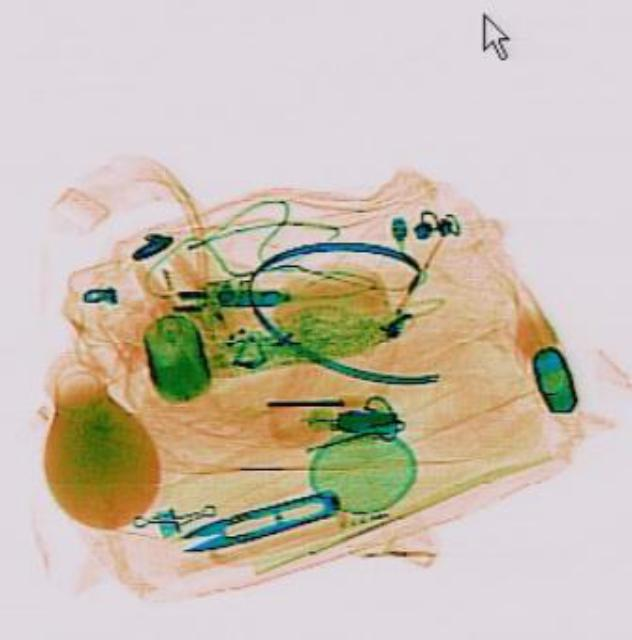Scissors: (170, 480, 340, 558)
